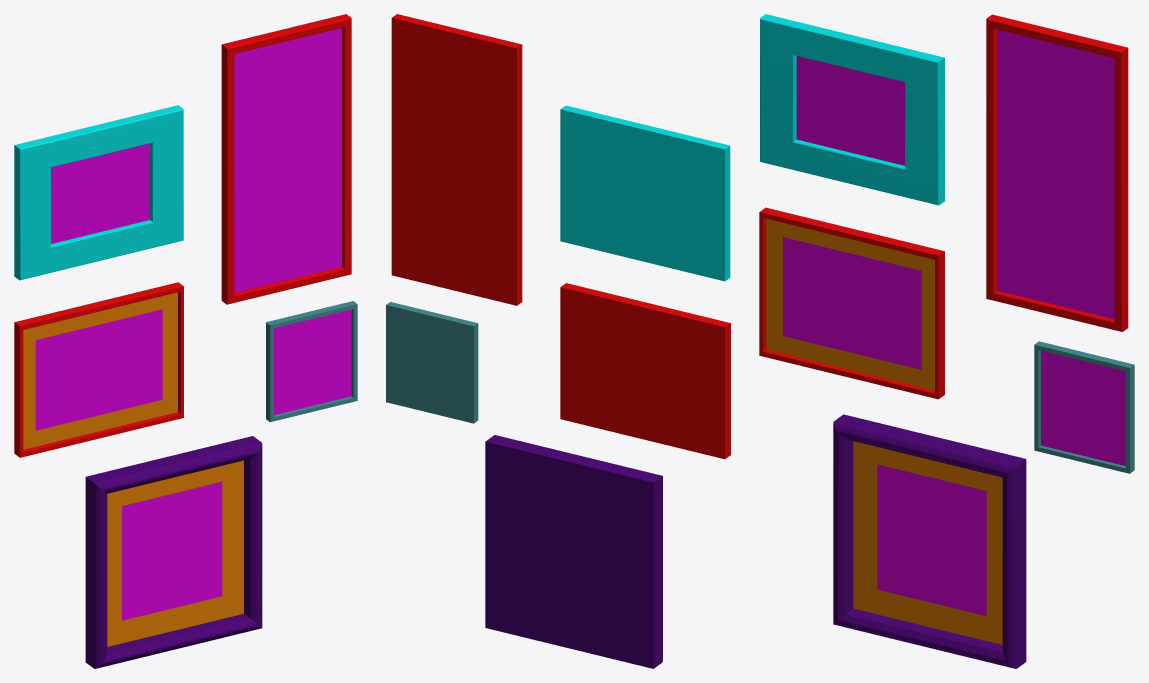
3 renders of one model, left to right at view 1: azimuth 30°, elevation 25°; view 2: azimuth 150°, elevation 25°; view 3: azimuth 330°, elevation 25°, orthographic. The views are drawn at different scales.
Parts seen in each view (by area): view 1: pCube169; view 2: pCube169; view 3: pCube169.
Part boxes in pixels (x1,y1,x2,y2): pCube169: (14,14,357,668); pCube169: (386,14,730,668); pCube169: (759,14,1134,668).
Size of the model in its own units: 131 by 216 by 7.81.
